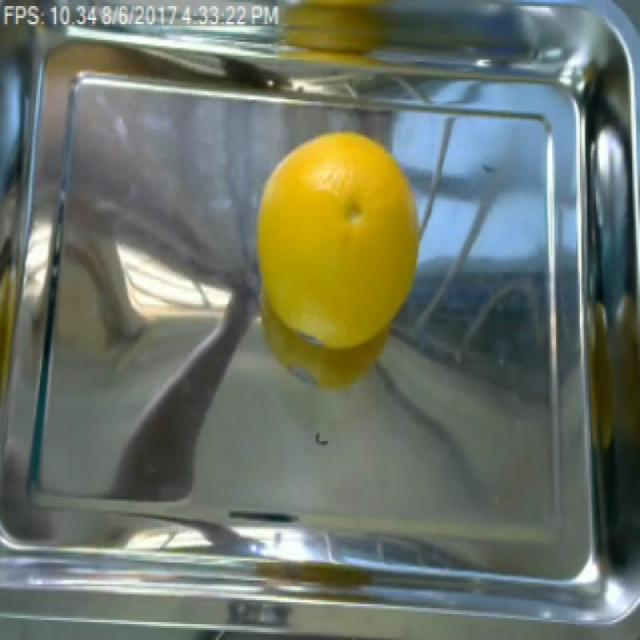Fruit: (253, 121, 427, 392)
